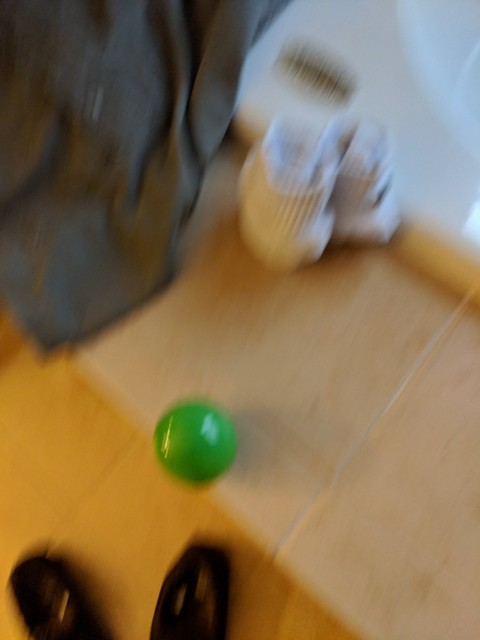ball: (149, 395, 236, 488)
